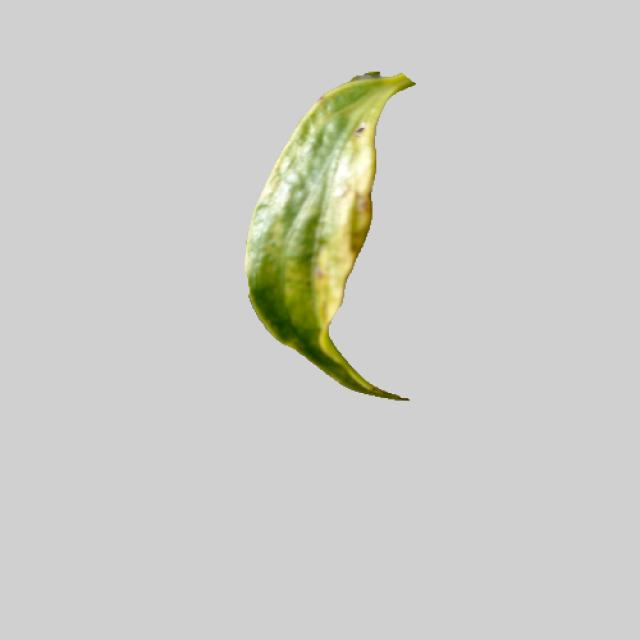yellow-mottle-virus: (242, 70, 418, 402)
